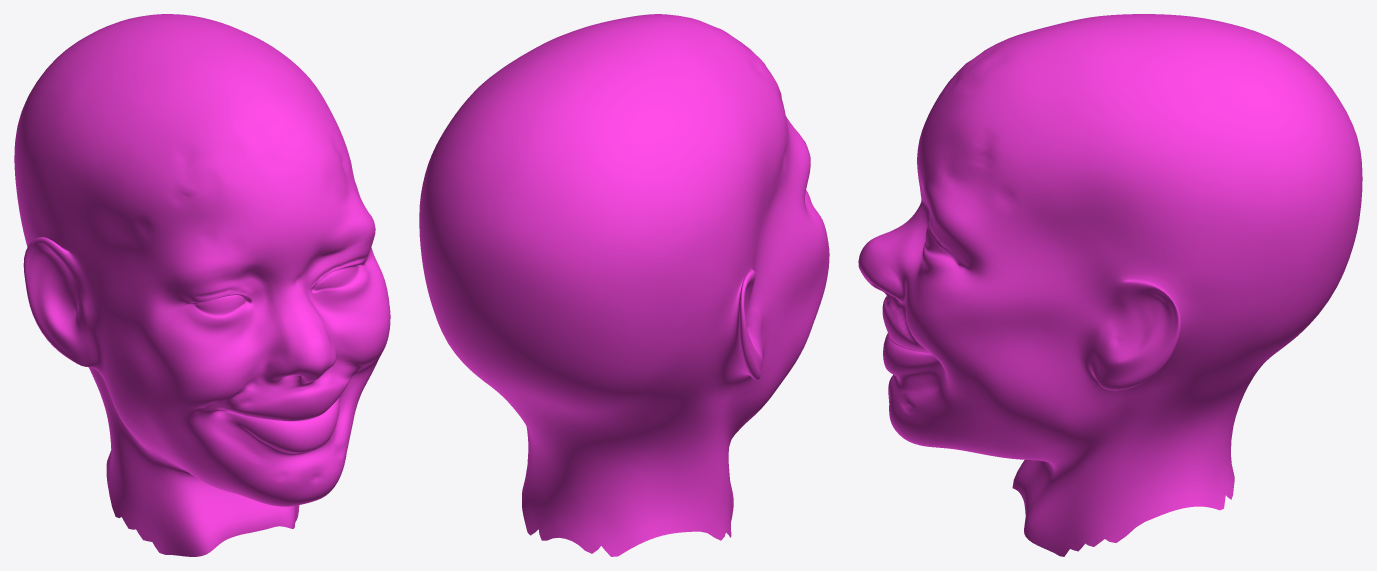
Rendered from head_pink-transformed.glb.
3 views of the same model, side by side, from view 1: azimuth 30°, elevation 25°; view 2: azimuth 150°, elevation 25°; view 3: azimuth 270°, elevation 25° (orthographic). The views are drawn at different scales.
Visible parts, largest first — view 1: FaceBuilderHead.002; view 2: FaceBuilderHead.002; view 3: FaceBuilderHead.002.
Boxes of the visible parts, x1,y1,x2,y2 form: FaceBuilderHead.002: [14, 14, 390, 556]; FaceBuilderHead.002: [419, 14, 829, 556]; FaceBuilderHead.002: [858, 14, 1362, 556].
Bounding box in the file's own units: 1.96 × 2.91 × 2.69.
